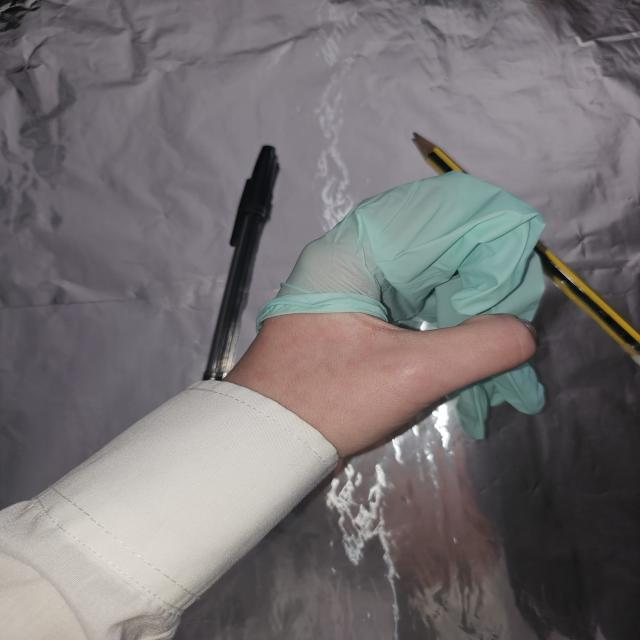glove_partial: (232, 168, 547, 470)
